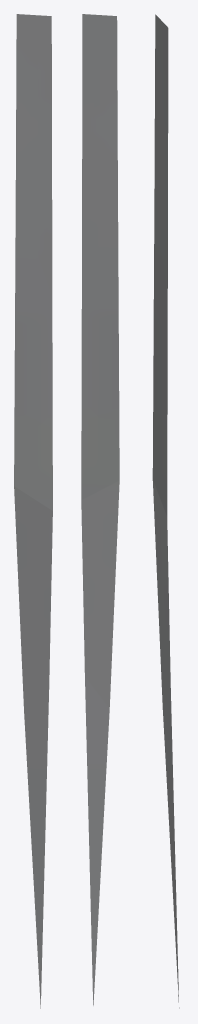
3 renders of one model, left to right at view 1: azimuth 30°, elevation 25°; view 2: azimuth 210°, elevation 25°; view 3: azimuth 330°, elevation 25°, orthographic.
Bounding box in the file's own units: 0.00707 × 0.2528 × 0.00556.
Materials: 1 (1 with a texture image).
